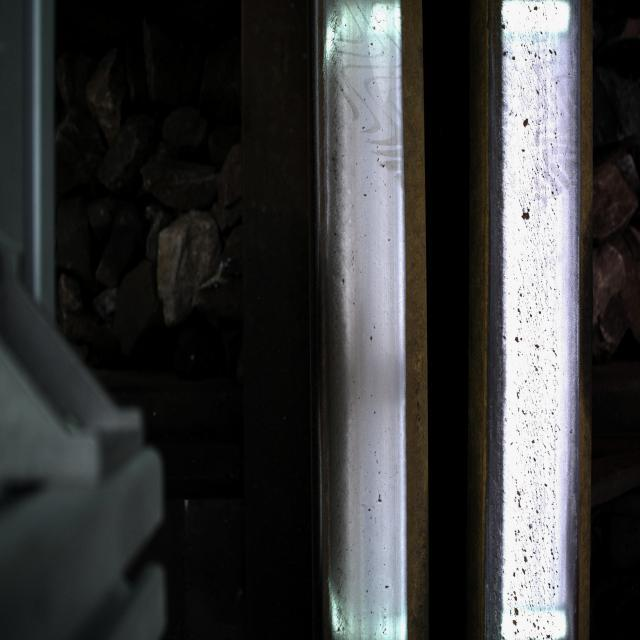scar: (492, 29, 578, 580)
